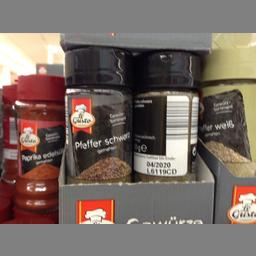spices: (62, 46, 132, 180), (133, 49, 200, 182), (15, 73, 62, 217)
